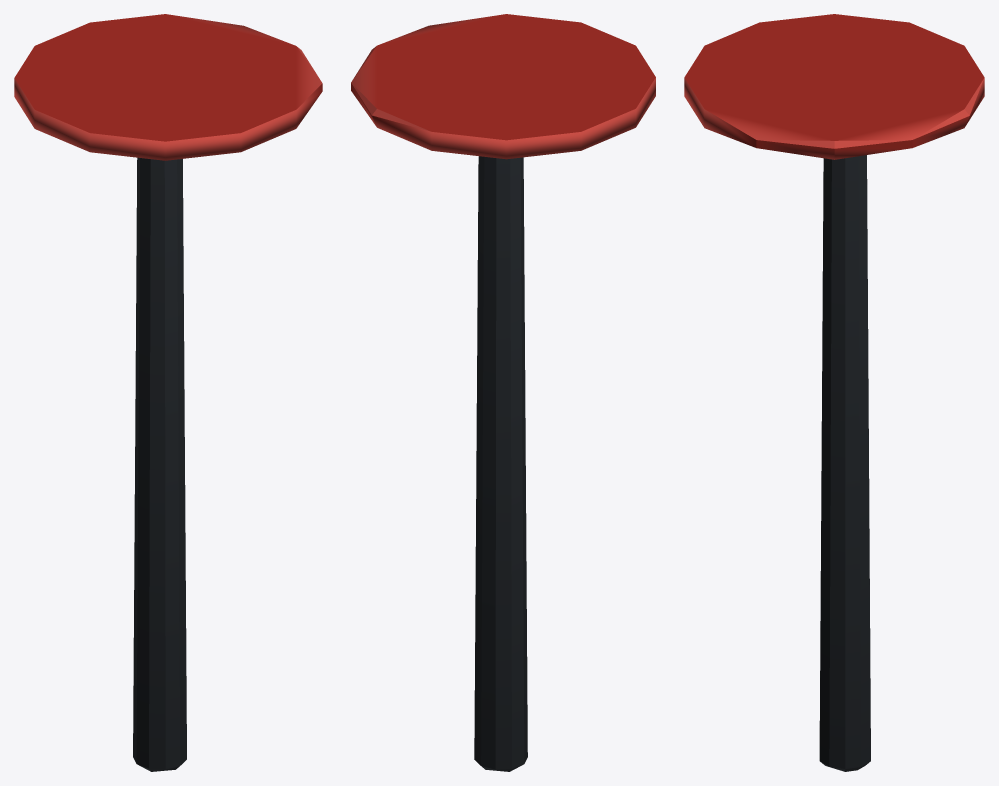
Rendered from road-sign-disc-v1.lod1.glb.
3 views of the same model, side by side, from view 1: azimuth 30°, elevation 25°; view 2: azimuth 150°, elevation 25°; view 3: azimuth 270°, elevation 25° (orthographic).
Visible parts, largest first — view 1: road-sign-disc-v1.lod1; view 2: road-sign-disc-v1.lod1; view 3: road-sign-disc-v1.lod1.
Boxes of the visible parts, x1,y1,x2,y2 form: road-sign-disc-v1.lod1: [14, 14, 322, 771]; road-sign-disc-v1.lod1: [351, 14, 655, 771]; road-sign-disc-v1.lod1: [684, 14, 984, 771].
Size of the model in its own units: 1.02 by 2.52 by 1.
